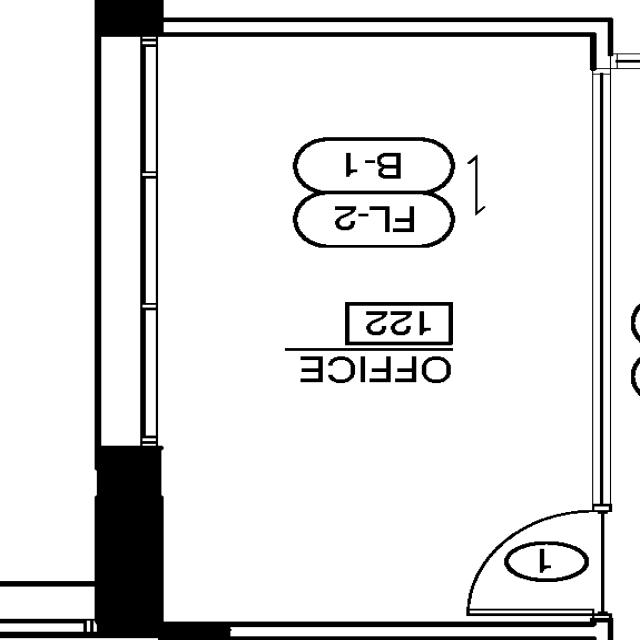Doors: (462, 505, 620, 624)
